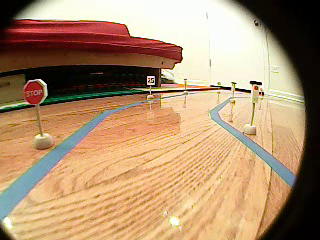Red Traffic Light: (249, 80, 260, 106)
Speed Limit 25: (146, 75, 156, 85)
Stop Sign: (22, 80, 47, 104)
